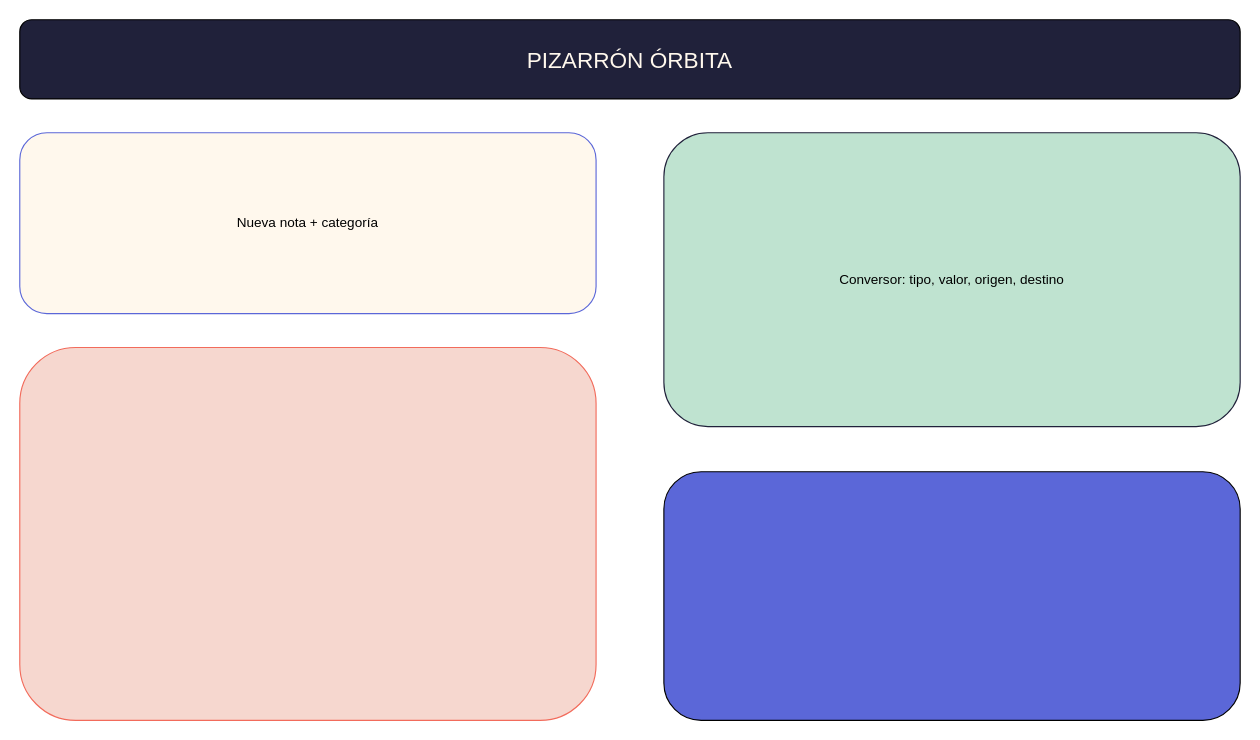
Image size: 1260x740. Some labels were removed from this diagram. The shapes that lost their labels are listed below. From the top down, each one's box as (x1, y1, x2, y2) in pixels, then its label:
(19, 346, 596, 720): Filtro + notas editables
(663, 471, 1240, 720): Resultado + Guardar como nota
